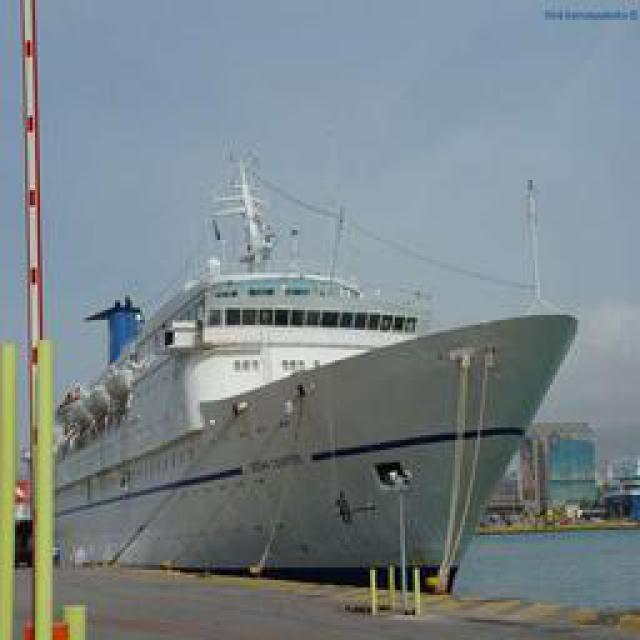Ship: (11, 207, 581, 580)
